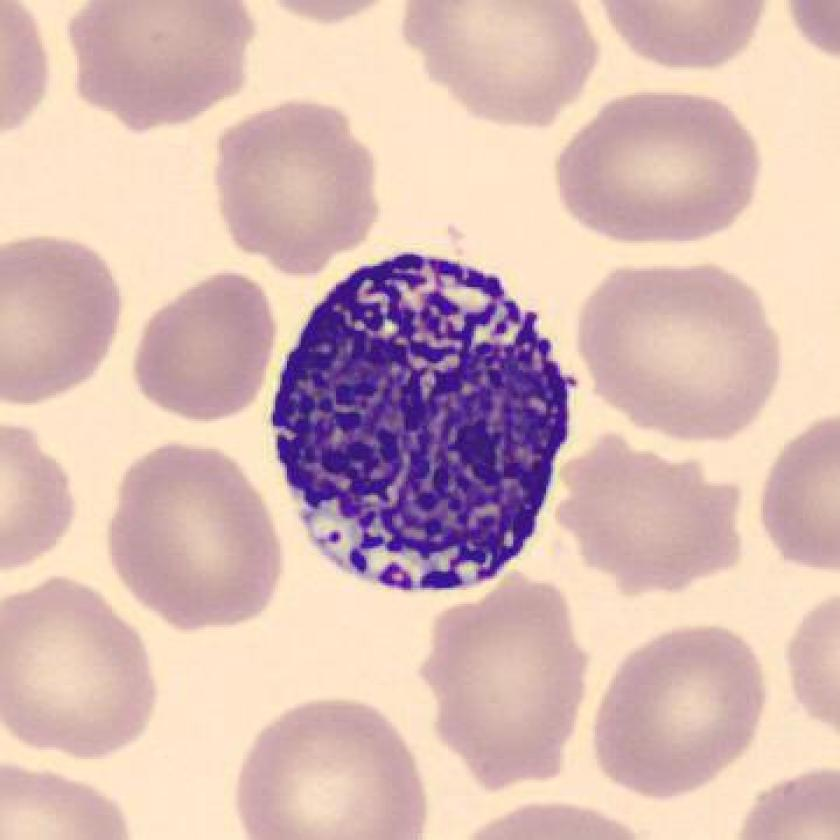basophil: (272, 249, 580, 598)
